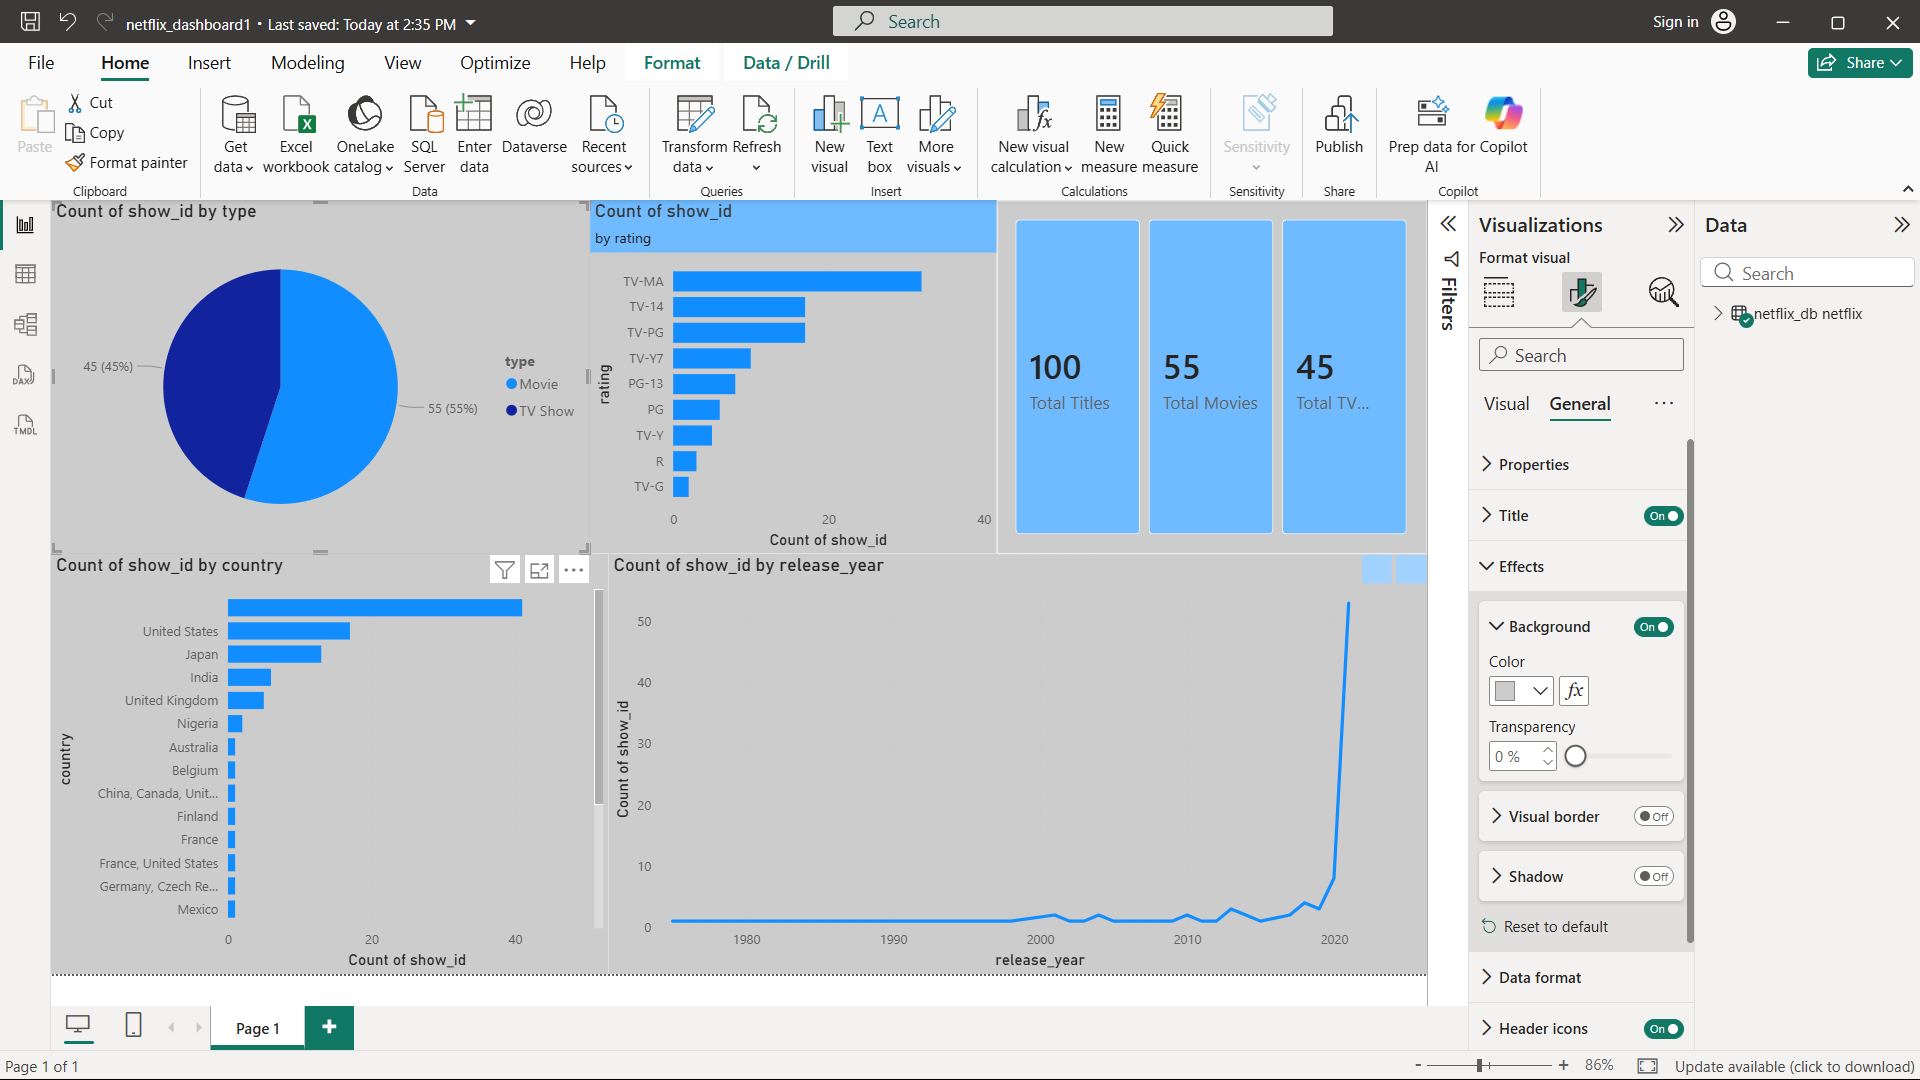

What the dashboard file says about the page in this screenshot:
{"tool":"powerbi","page":{"name":"Page 1","canvas":[1280,720],"ordinal":0},"visuals":[{"type":"pieChart","fields":{"Category":["netflix_db netflix.type"],"Y":["CountNonNull(netflix_db netflix.show_id)"]},"box":[0,0,501.4,328.6],"z":0},{"type":"lineChart","fields":{"Category":["netflix_db netflix.release_year"],"Y":["CountNonNull(netflix_db netflix.show_id)"]},"box":[518.6,328.6,761.4,391.4],"z":1000},{"type":"barChart","fields":{"Category":["netflix_db netflix.country"],"Y":["CountNonNull(netflix_db netflix.show_id)"]},"box":[0,328.6,518.6,391.4],"z":2000},{"type":"barChart","fields":{"Category":["netflix_db netflix.rating"],"Y":["CountNonNull(netflix_db netflix.show_id)"]},"box":[501.4,0,378.6,328.6],"z":3000},{"type":"cardVisual","fields":{"Data":["netflix_db netflix.Total Titles","netflix_db netflix.Total Movies","netflix_db netflix.Total TV Shows"]},"box":[880,1.4,400,327.1],"z":4000}]}

Visuals, with their boxes on the page's 1280x720 design canvas (x1, y1, x2, y2). These are canvas units, not pixel positions in the 1920x1080 screenshot, which may show the page scaled, cropped or inside an application window:
pieChart - netflix_db netflix.type x CountNonNull(netflix_db netflix.show_id): box=[0, 0, 501, 329]
lineChart - netflix_db netflix.release_year x CountNonNull(netflix_db netflix.show_id): box=[519, 329, 1280, 720]
barChart - netflix_db netflix.country x CountNonNull(netflix_db netflix.show_id): box=[0, 329, 519, 720]
barChart - netflix_db netflix.rating x CountNonNull(netflix_db netflix.show_id): box=[501, 0, 880, 329]
cardVisual - netflix_db netflix.Total Titles x netflix_db netflix.Total Movies: box=[880, 1, 1280, 328]
